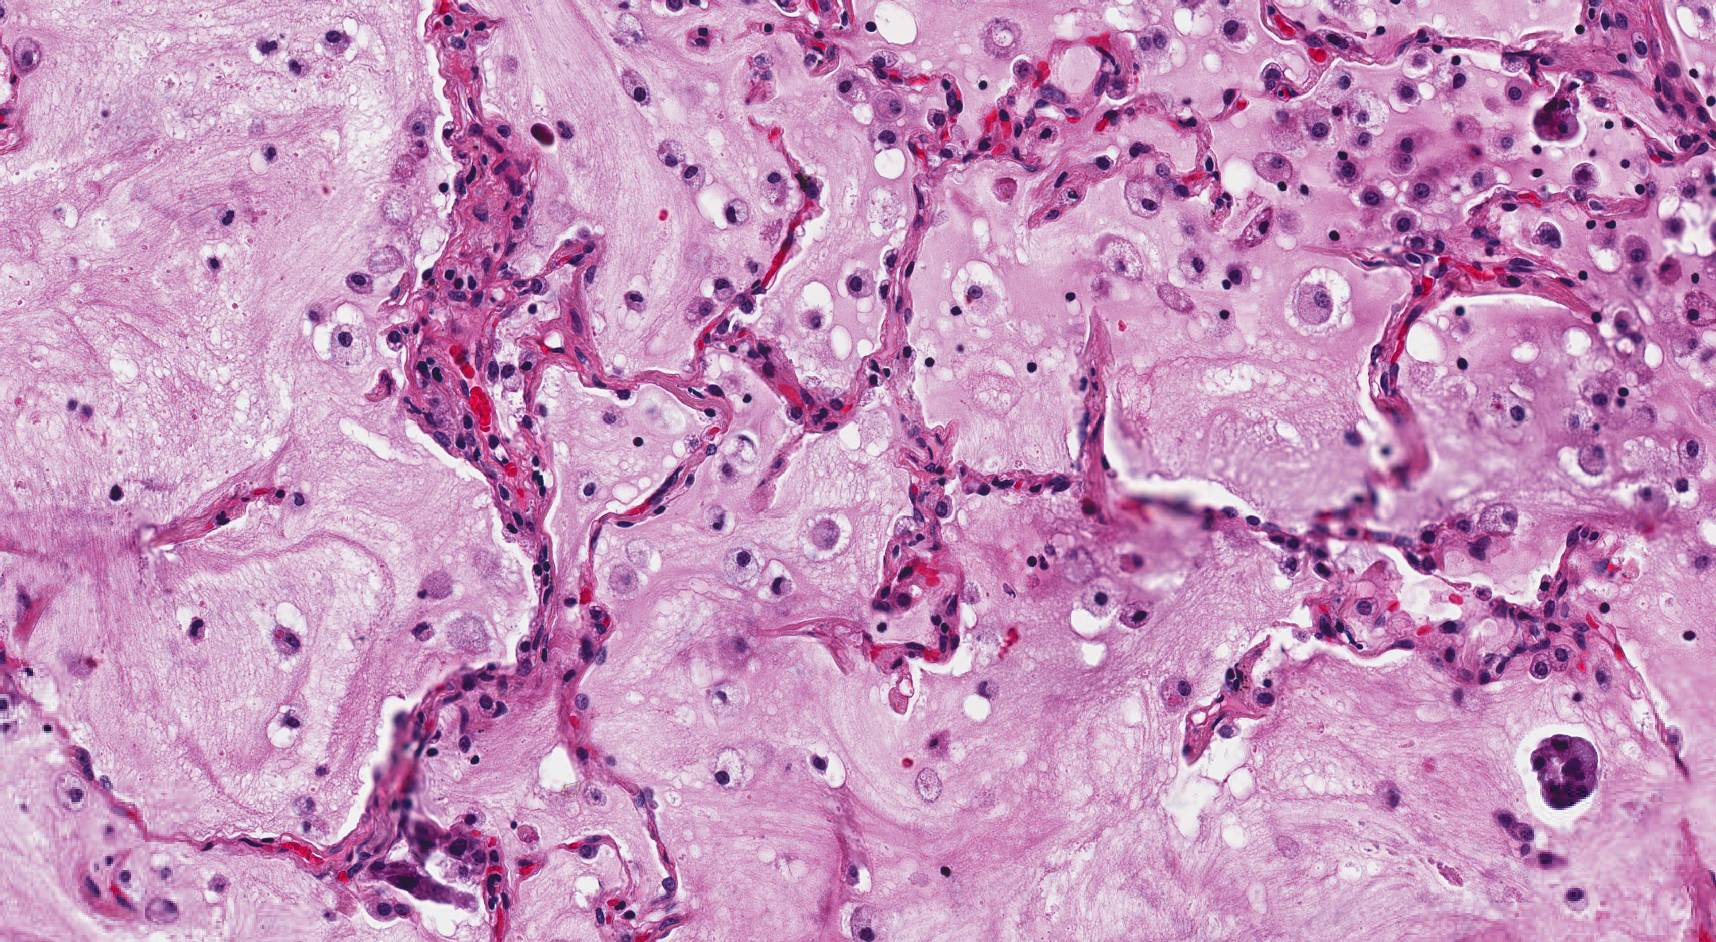stas: (1529, 732, 1600, 809)
